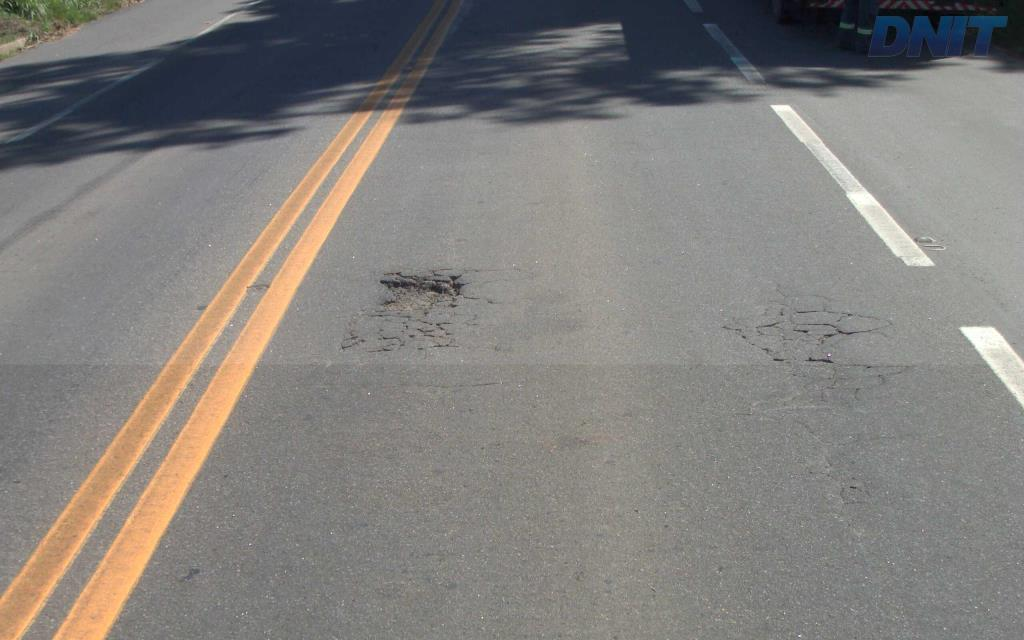pothole: (376, 277, 468, 311)
